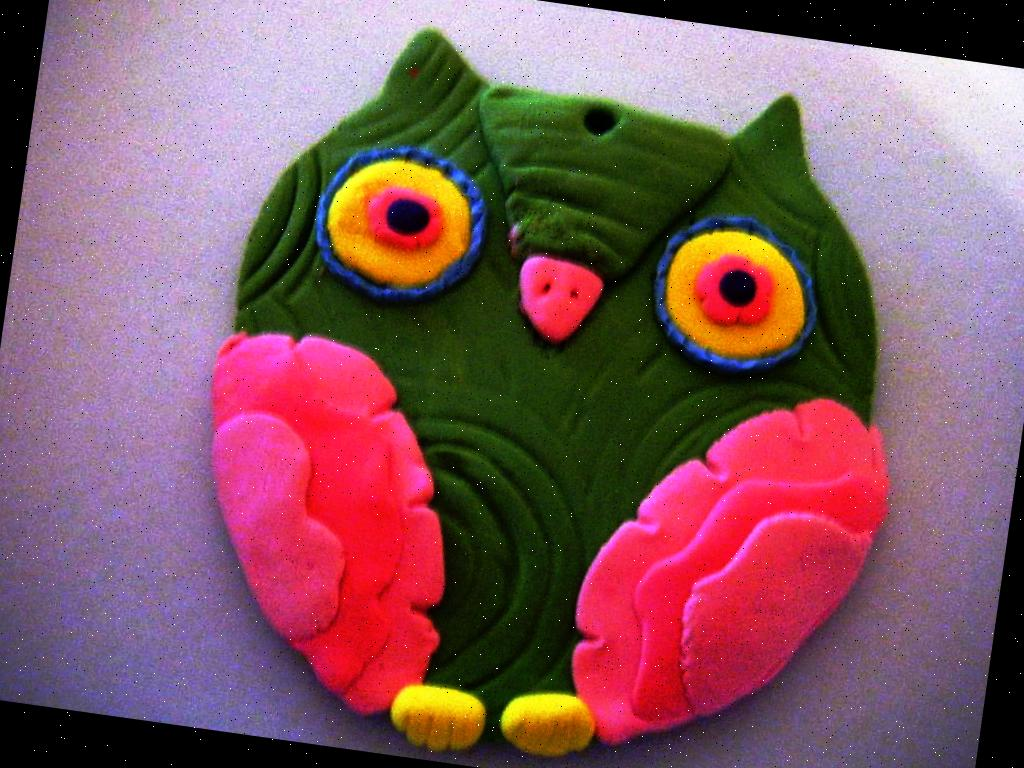Owl: (166, 6, 944, 768)
